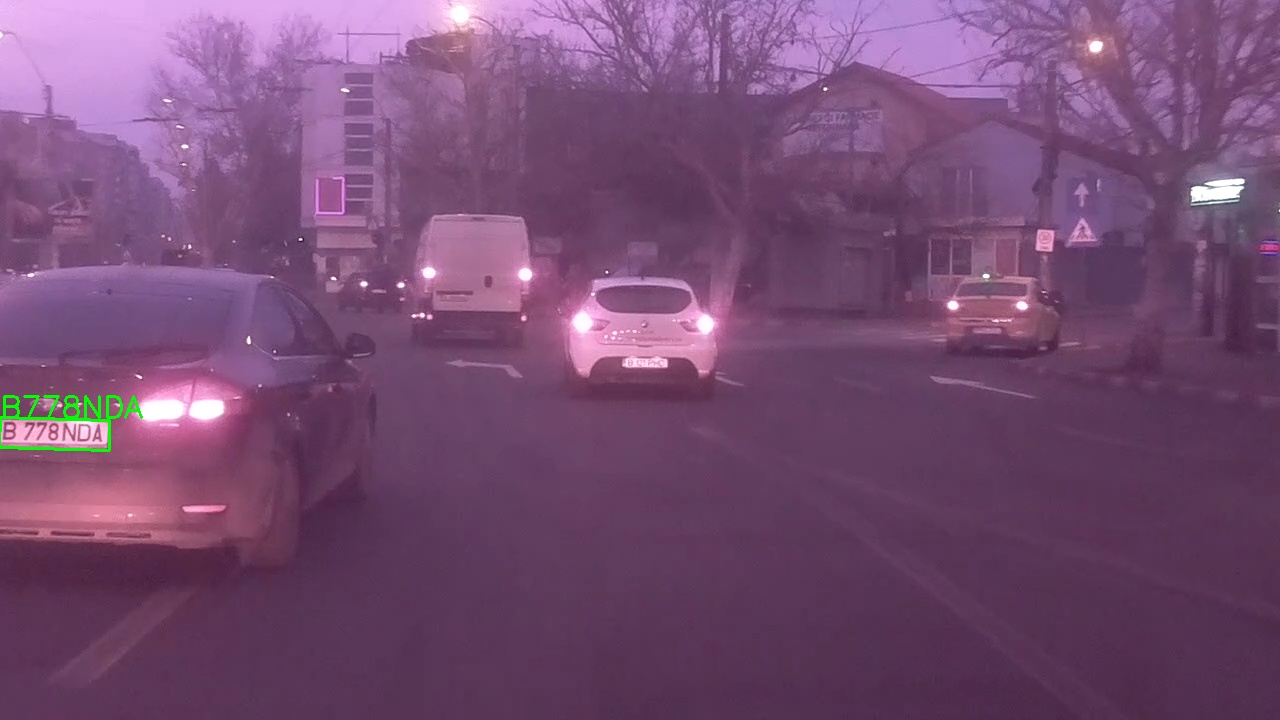license-plate: (0, 416, 111, 452)
